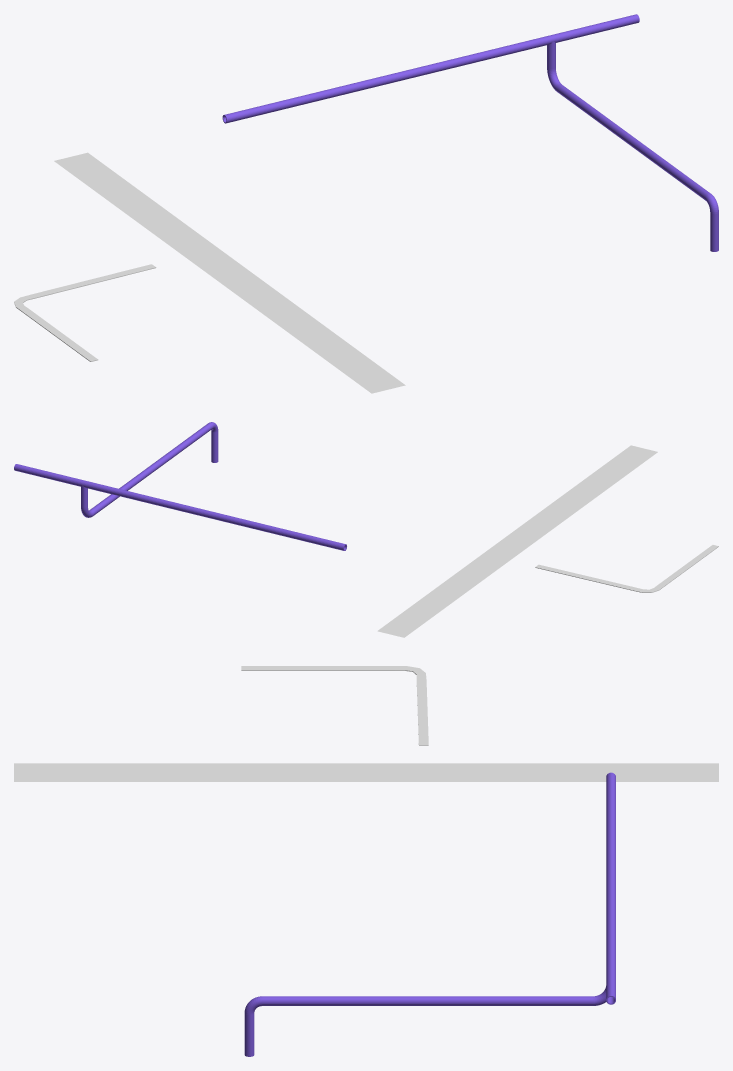
3 renders of one model, top to bottom at view 1: azimuth 30°, elevation 25°; view 2: azimuth 150°, elevation 25°; view 3: azimuth 270°, elevation 25°, orthographic. The views are drawn at different scales.
Visible parts, largest first — view 1: 大路, 水管, 小路; view 2: 大路, 水管, 小路; view 3: 大路, 水管, 小路.
Part boxes in pixels (<box>): 大路: <box>54,152,405,393</box>; 水管: <box>222,14,718,251</box>; 小路: <box>14,264,156,361</box>; 大路: <box>377,445,657,637</box>; 水管: <box>14,422,346,550</box>; 小路: <box>535,545,718,592</box>; 大路: <box>14,763,718,781</box>; 水管: <box>244,772,615,1056</box>; 小路: <box>241,666,428,745</box>.
Size of the model in its own units: 184 by 23.44 by 142.
